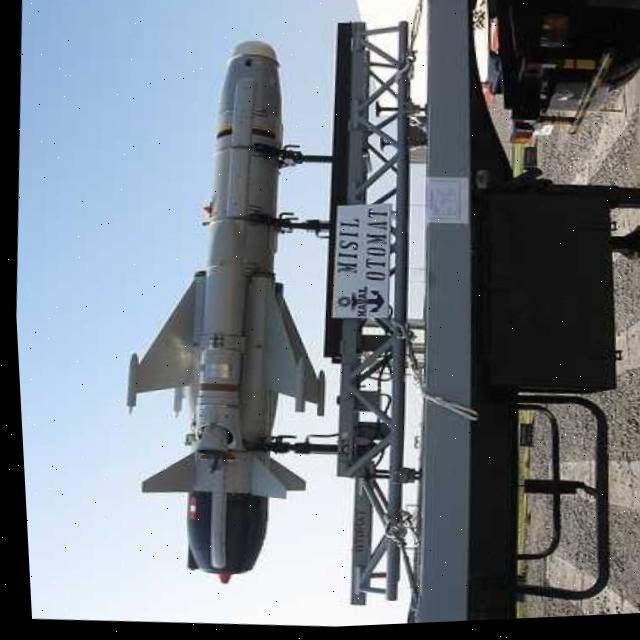missile: (87, 29, 358, 591)
